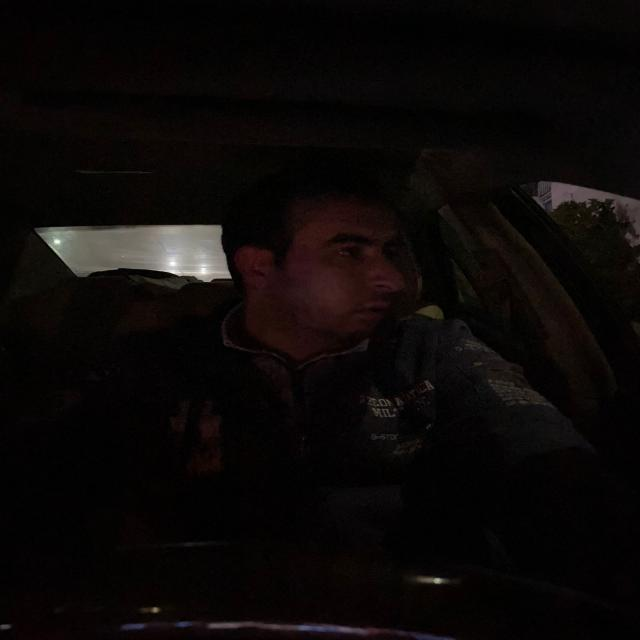LeftRight: (214, 167, 412, 338)
